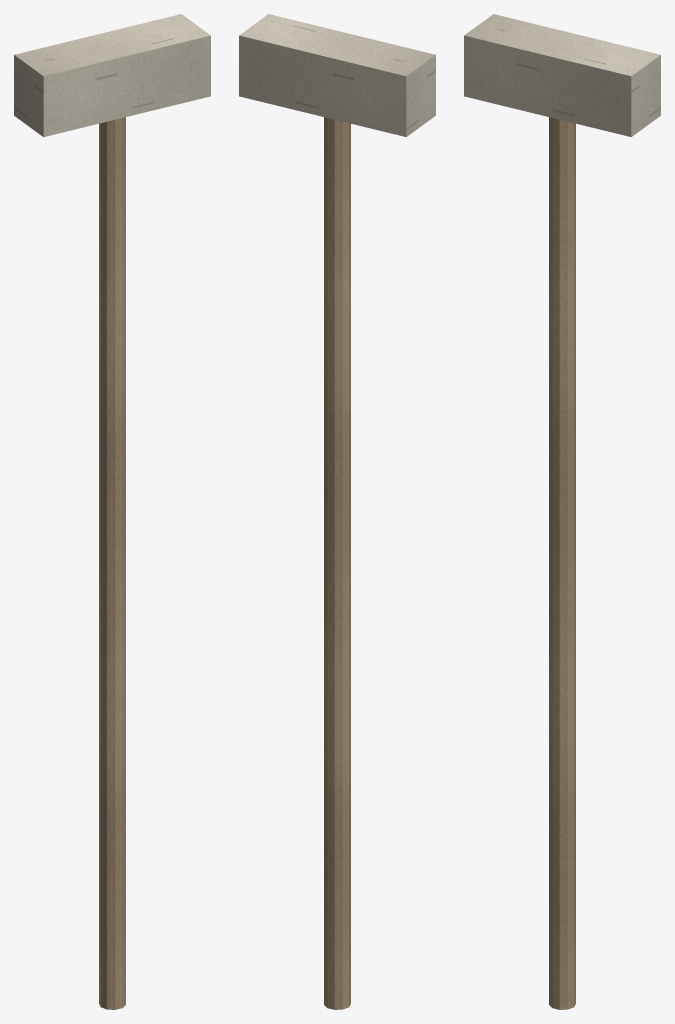
The model's file is mop_v2.glb.
3 renders of one model, left to right at view 1: azimuth 30°, elevation 25°; view 2: azimuth 150°, elevation 25°; view 3: azimuth 330°, elevation 25°, orthographic.
Visible parts, largest first — view 1: Variant_mop_2; view 2: Variant_mop_2; view 3: Variant_mop_2.
Boxes of the visible parts, x1=… form: Variant_mop_2: x1=14, y1=14, x2=210, y2=1009; Variant_mop_2: x1=239, y1=14, x2=435, y2=1009; Variant_mop_2: x1=464, y1=14, x2=660, y2=1009.
Bounding box in the file's own units: 0.23 × 1.26 × 0.07.
Materials: 2 (2 with a texture image).
